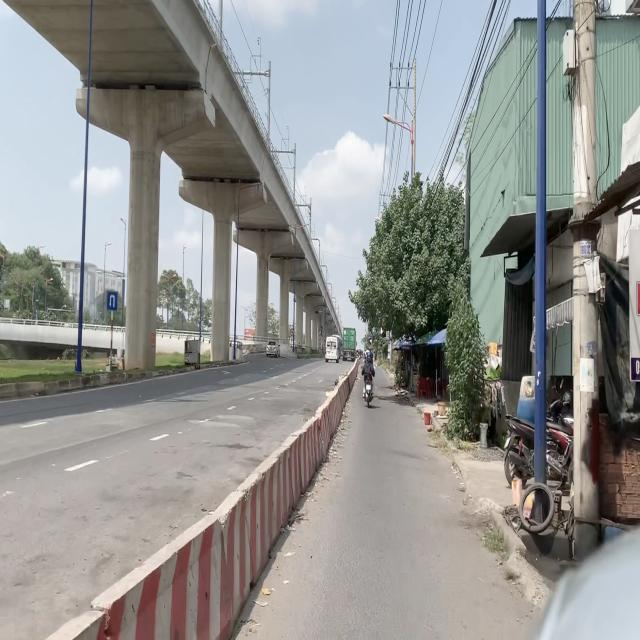Chi dan: (108, 290, 119, 312)
